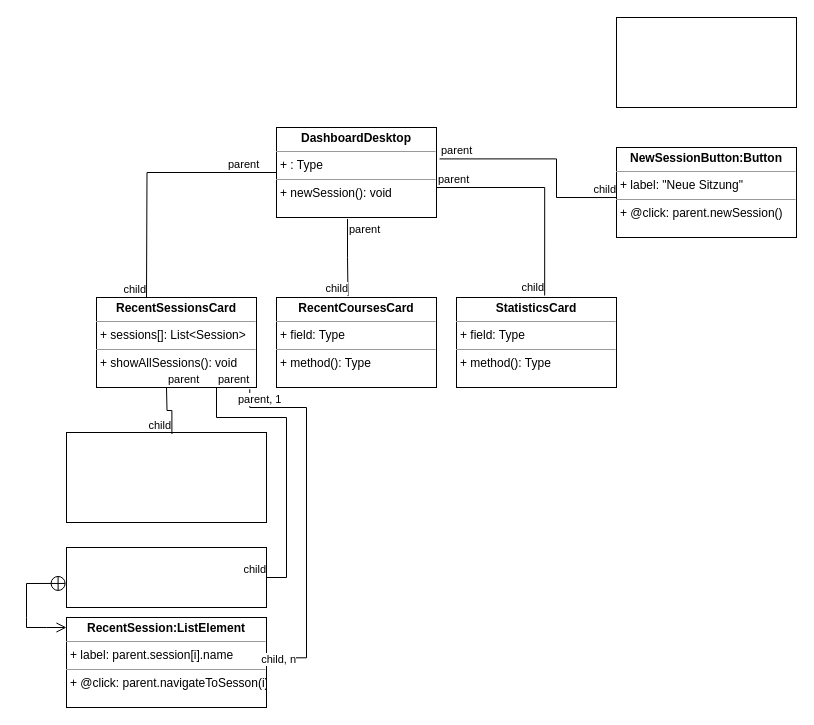
Image size: 814x725. Some labels were removed from this diagram. Each missing label, with the box of its shape:
RecentSessionsList:List + slot:default: parent.recentSessions: (66, 546, 266, 608)
ShowAllSessionsButton:Button + onlyIcon:true + @click: parent.showAllSessions(): (66, 432, 266, 522)
Sidemenu + field: Type + method(): Type: (616, 16, 796, 108)
